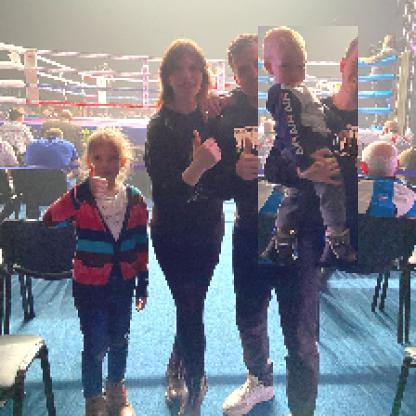child: (44, 129, 152, 415), (259, 27, 360, 268)
